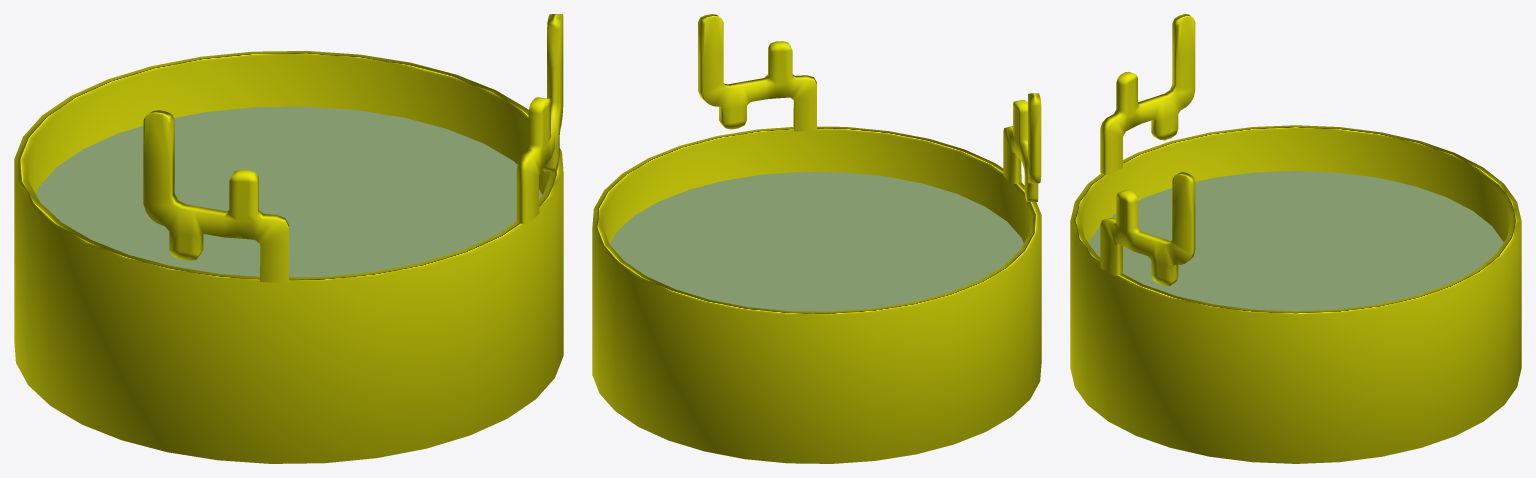
Rendered from PROPS_GOODS_CREMEBRULEE_MODEL.fbx.
3 renders of one model, left to right at view 1: azimuth 30°, elevation 25°; view 2: azimuth 150°, elevation 25°; view 3: azimuth 270°, elevation 25°, orthographic. The views are drawn at different scales.
Parts seen in each view (by area): view 1: PROPS_GOODS_CREMEBRULEE_GLASS_MODEL, PROPS_GOODS_CREMEBRULEE_MODEL; view 2: PROPS_GOODS_CREMEBRULEE_GLASS_MODEL, PROPS_GOODS_CREMEBRULEE_MODEL; view 3: PROPS_GOODS_CREMEBRULEE_GLASS_MODEL, PROPS_GOODS_CREMEBRULEE_MODEL.
Part boxes in pixels (bbox=[...]): PROPS_GOODS_CREMEBRULEE_GLASS_MODEL: bbox=[14, 14, 563, 463]; PROPS_GOODS_CREMEBRULEE_MODEL: bbox=[36, 106, 542, 277]; PROPS_GOODS_CREMEBRULEE_GLASS_MODEL: bbox=[592, 14, 1041, 463]; PROPS_GOODS_CREMEBRULEE_MODEL: bbox=[609, 171, 1023, 311]; PROPS_GOODS_CREMEBRULEE_GLASS_MODEL: bbox=[1070, 14, 1521, 463]; PROPS_GOODS_CREMEBRULEE_MODEL: bbox=[1088, 170, 1503, 311].
Size of the model in its own units: 14.97 by 9.99 by 14.97.
